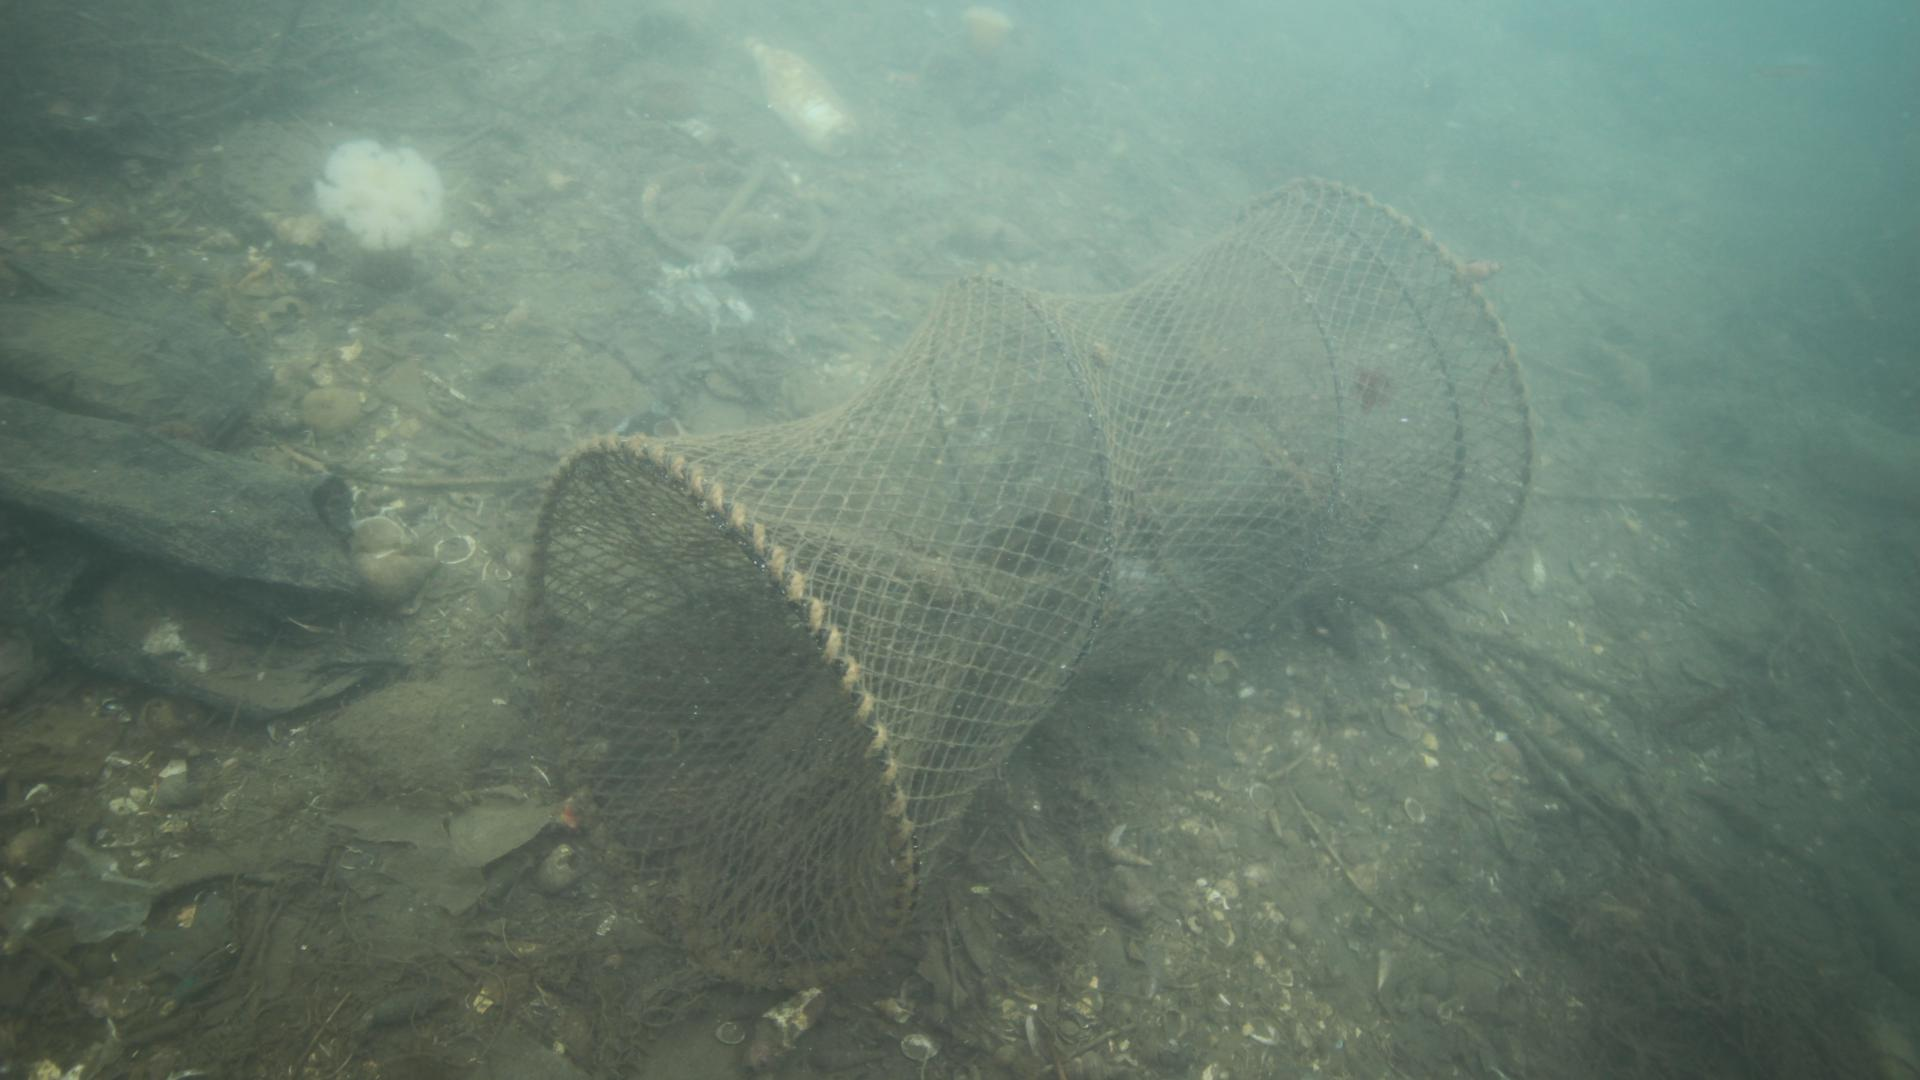spring fish trap: (524, 173, 1534, 1000)
